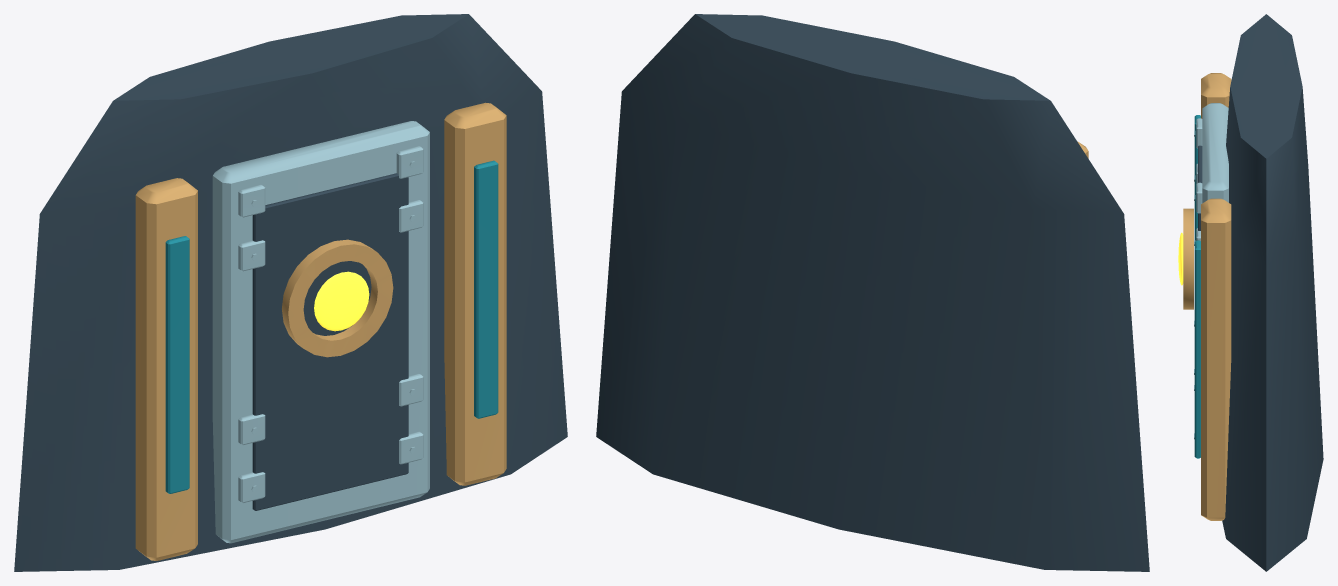
Rendered from ReactorBulkhead.glb.
3 views of the same model, side by side, from view 1: azimuth 30°, elevation 25°; view 2: azimuth 150°, elevation 25°; view 3: azimuth 270°, elevation 25° (orthographic). The views are drawn at different scales.
Parts seen in each view (by area): view 1: bulkhead; view 2: bulkhead; view 3: bulkhead.
Part boxes in pixels (x1,y1,x2,y2): bulkhead: (14, 14, 567, 571); bulkhead: (596, 14, 1149, 571); bulkhead: (1178, 14, 1323, 571).
Bounding box in the file's own units: 14 × 10.8 × 3.81.
